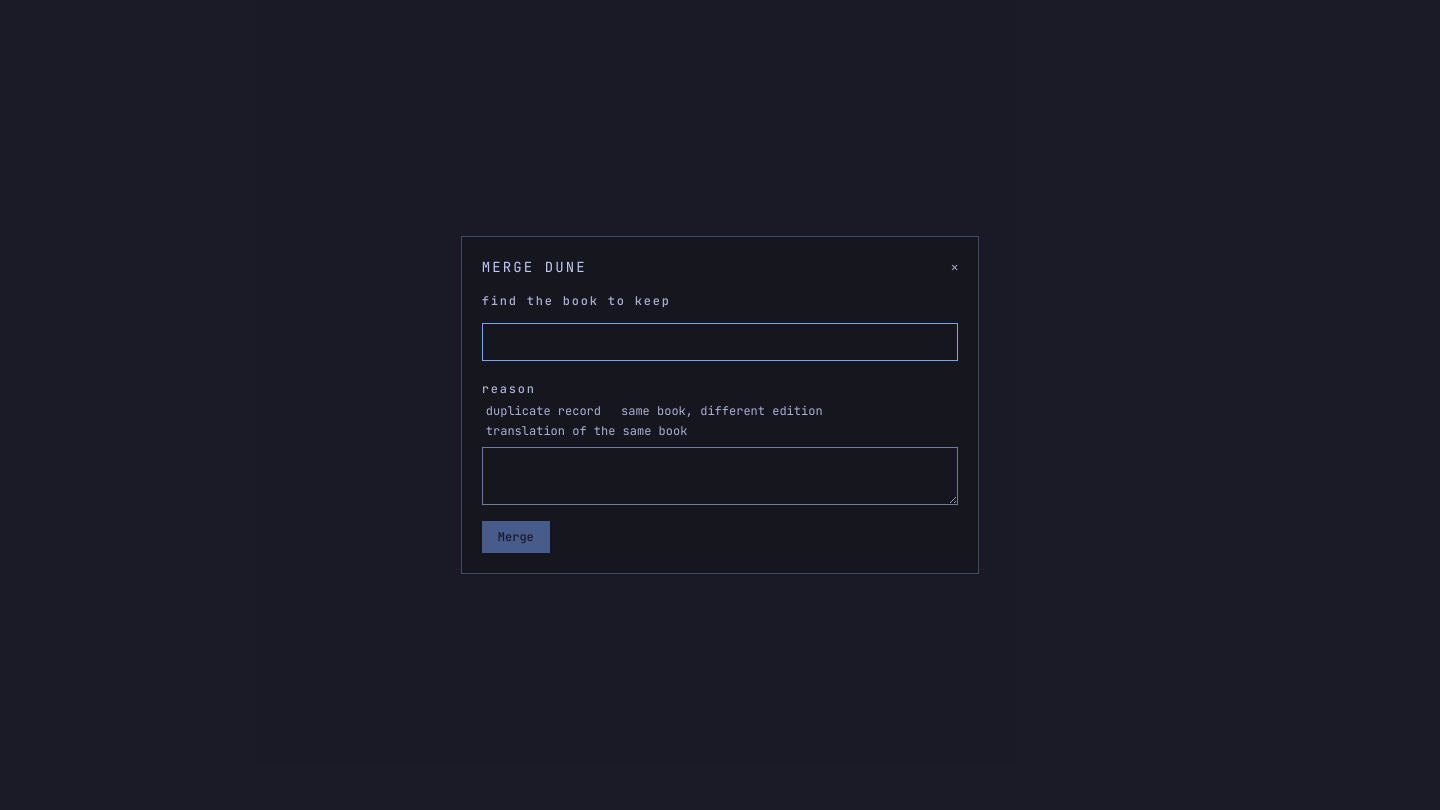
Test: LibrarianPanel › keeps focus on swap when swapping from the confirm step
The image size is (1440, 810).
Type "dune" into the field labelled "Find the book to keep". click: (720, 342)
box: [482,323,958,361]
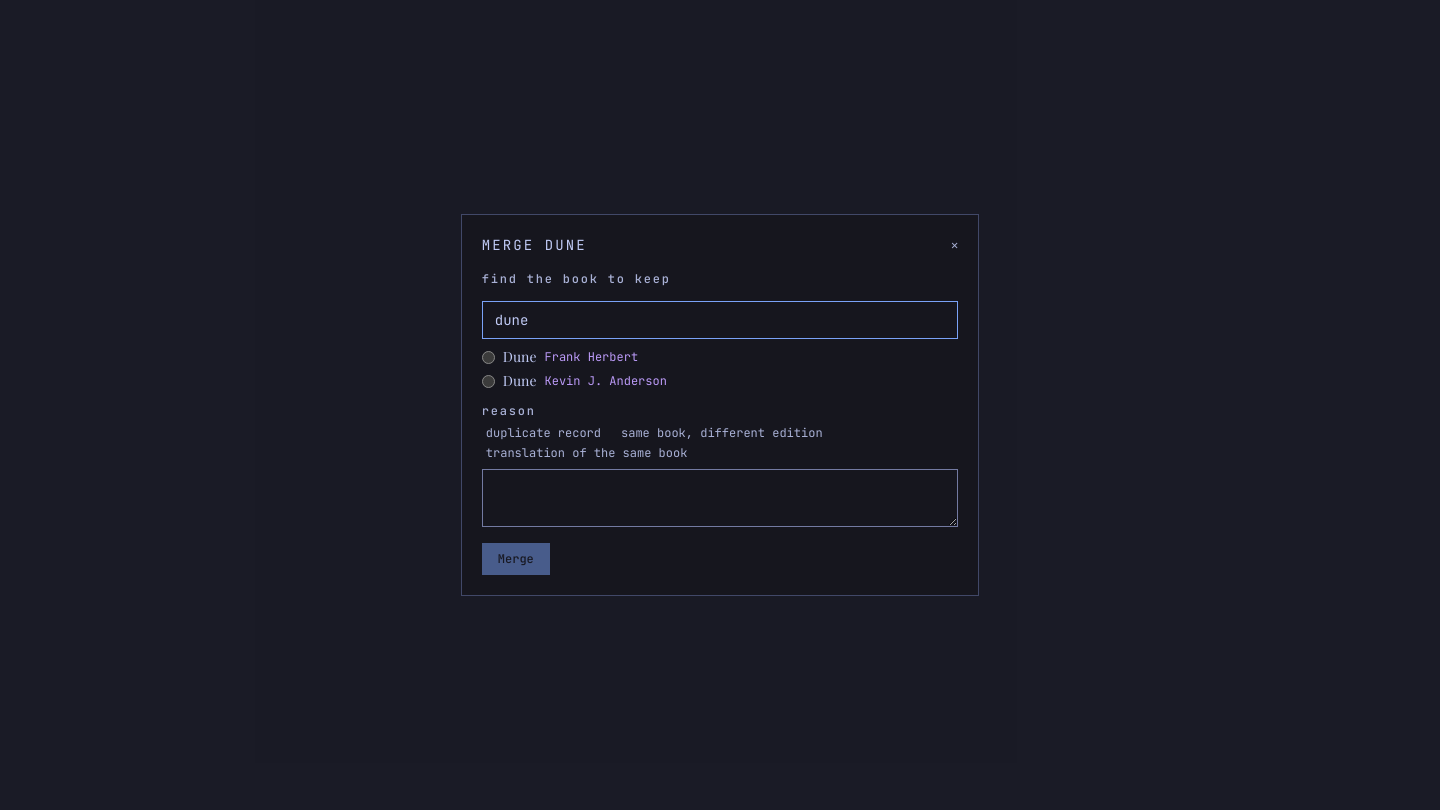
Click the radio button labelled "Dune Frank Herbert". click: click(488, 357)
box: [482,350,495,364]
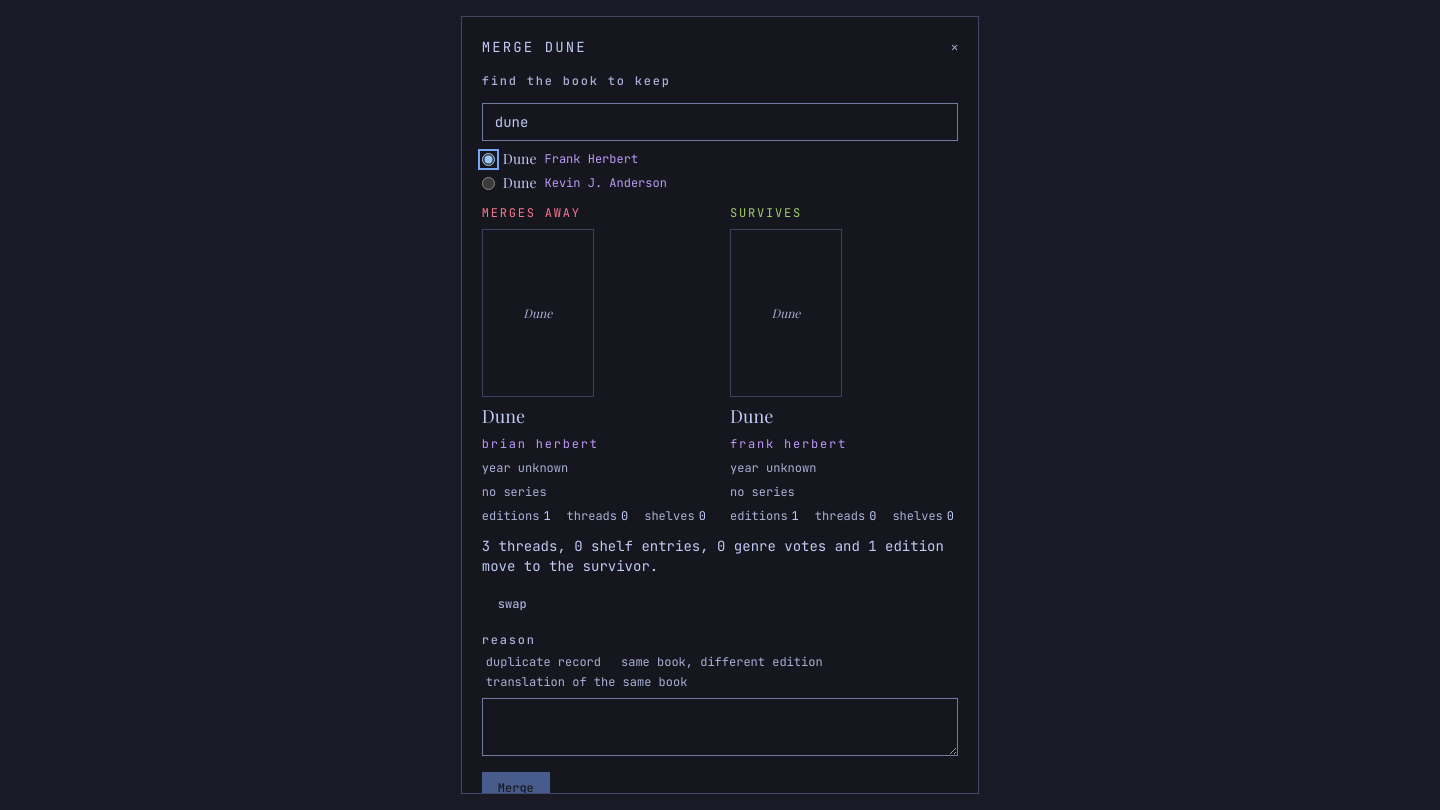
Result: the element named "Merge preview" is shown at [482,205,958,620]
Type "same book" into the text box labelled "Reason". click: (720, 726)
box: [482,698,958,756]
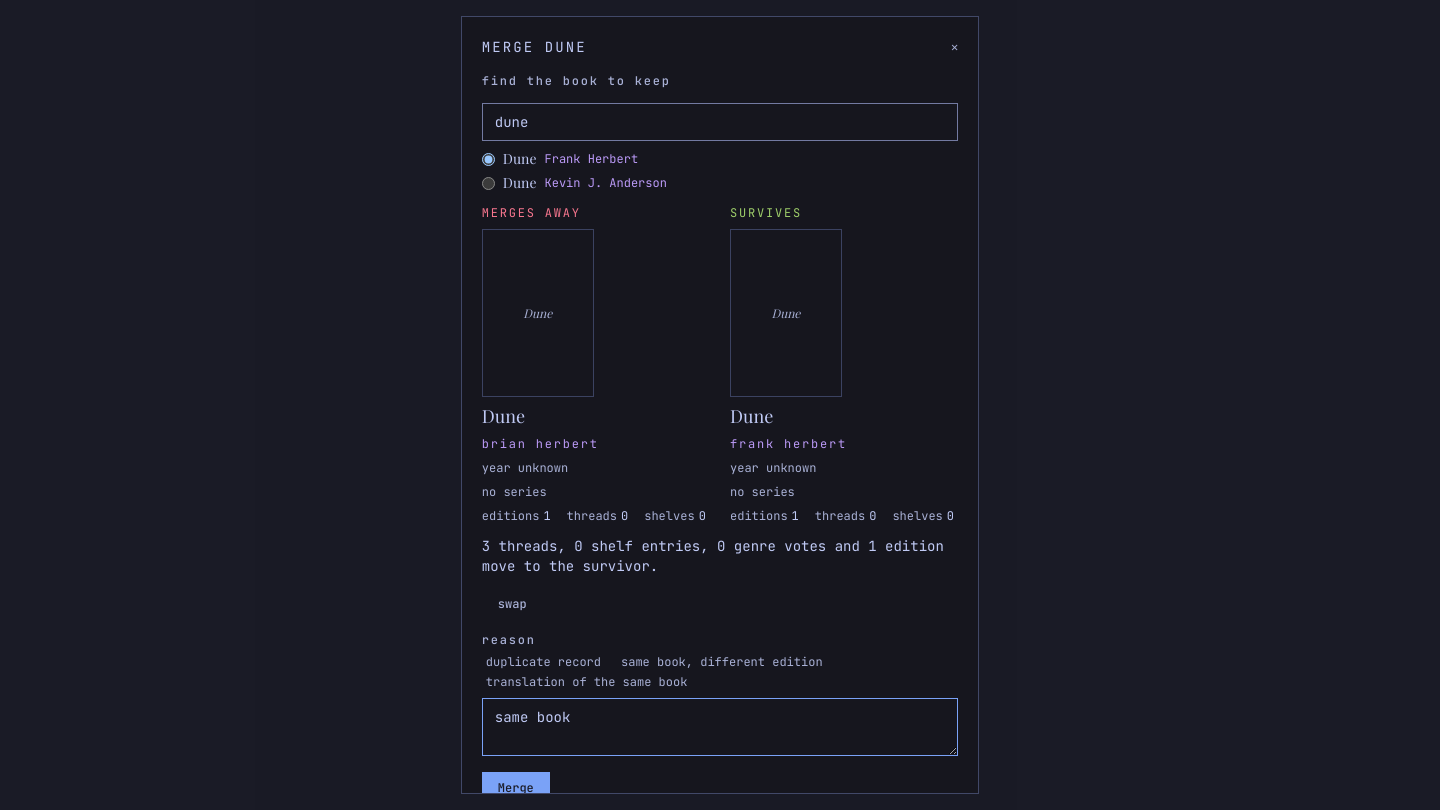
Click the button "Merge". click: click(516, 788)
box: [482,772,550,804]
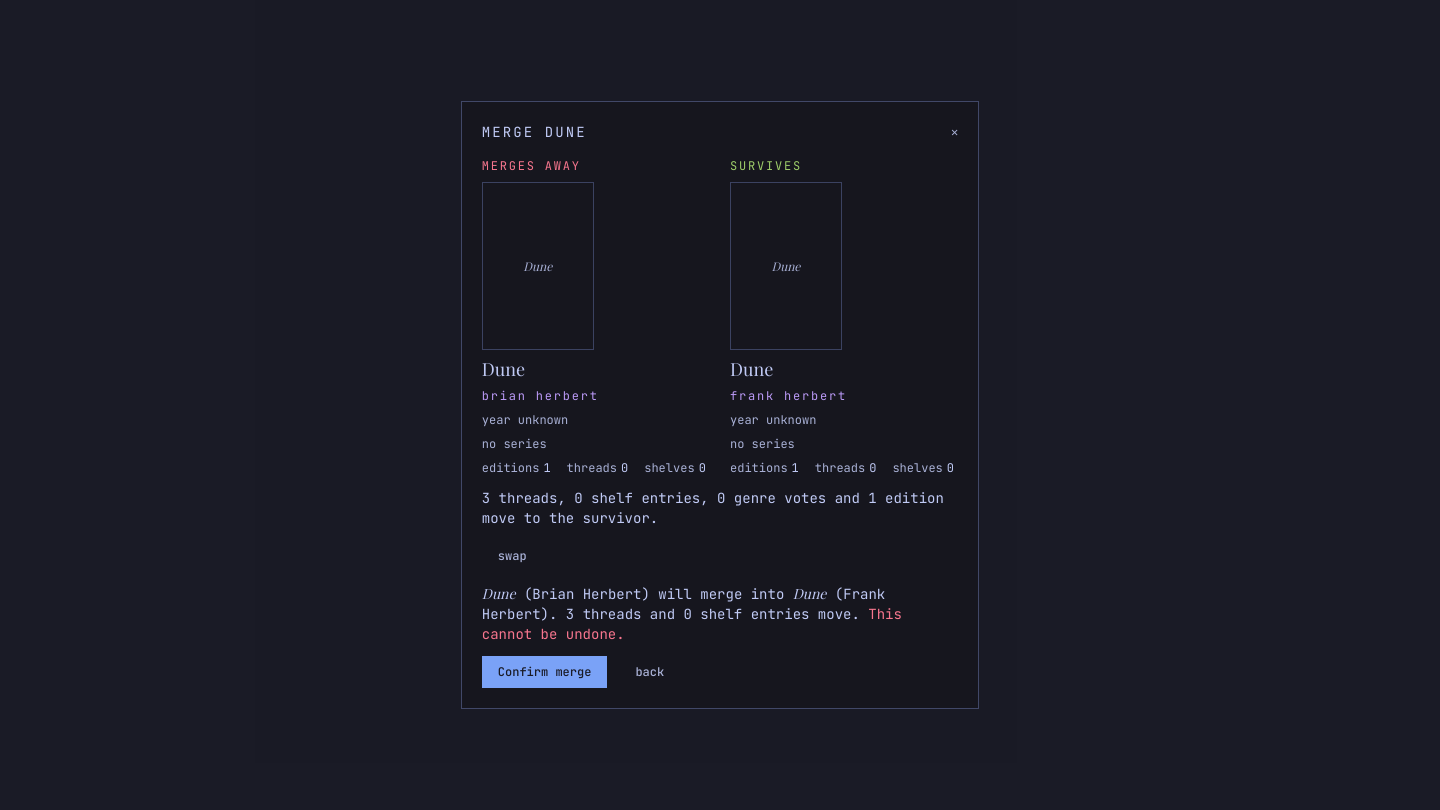
Click the button with aria-label "swap which book survives". click: click(512, 556)
box: [482,540,543,572]
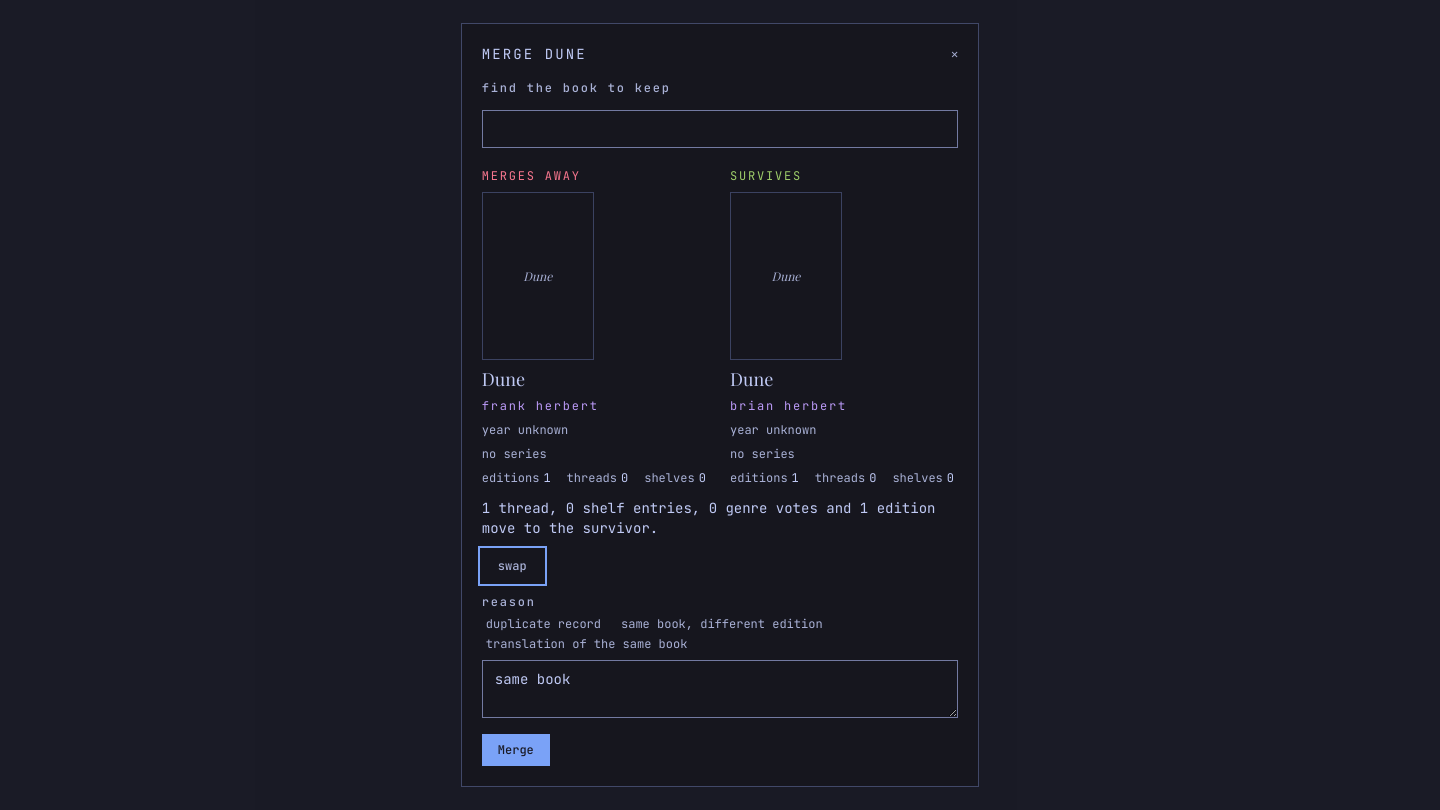
Result: the button "Confirm merge" is gone
